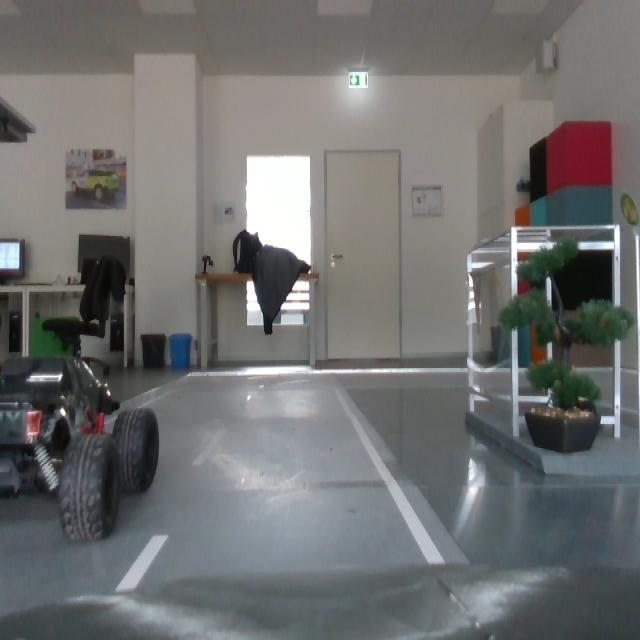car: (1, 343, 162, 547)
potted plant: (495, 235, 637, 410)
